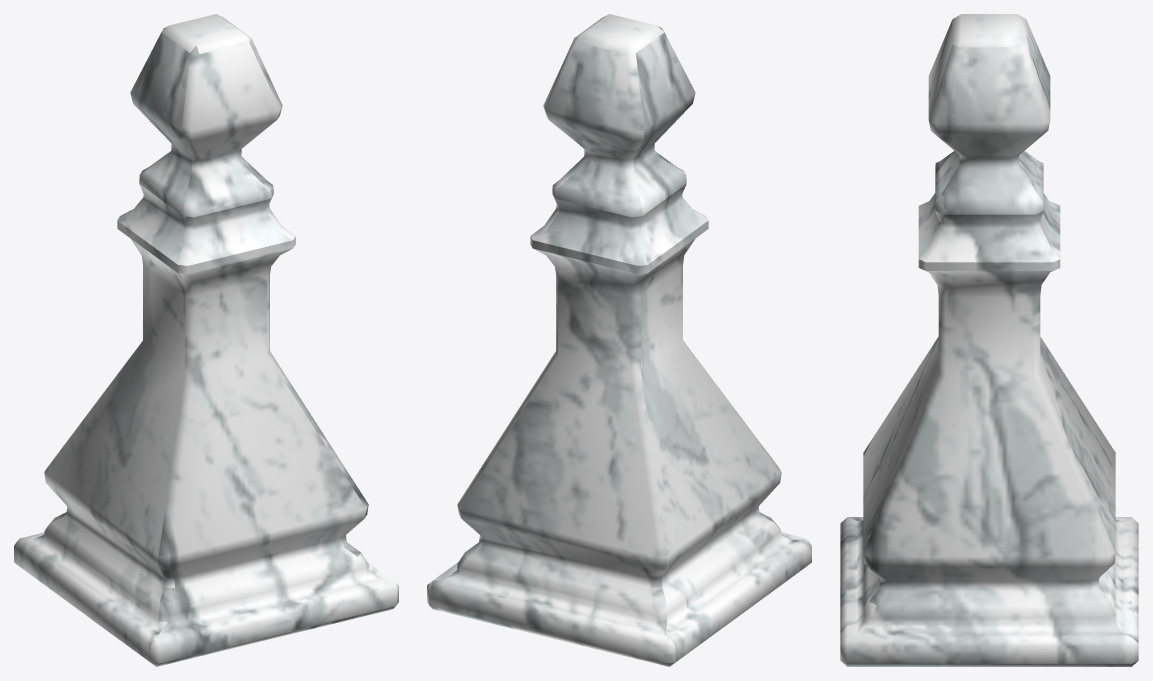
The model's file is chess_pawn_01-white.glb.
The picture shows the model from 3 angles, left to right: view 1: azimuth 30°, elevation 25°; view 2: azimuth 150°, elevation 25°; view 3: azimuth 270°, elevation 25°; orthographic projection. The views are drawn at different scales.
Parts seen in each view (by area): view 1: pawn_01; view 2: pawn_01; view 3: pawn_01.
Boxes of the visible parts, x1,y1,x2,y2 form: pawn_01: (14, 14, 398, 666); pawn_01: (427, 14, 811, 666); pawn_01: (840, 14, 1138, 666).
Bounding box in the file's own units: 0.5712 × 1.23 × 0.5712.
1 material, 1 textured.
